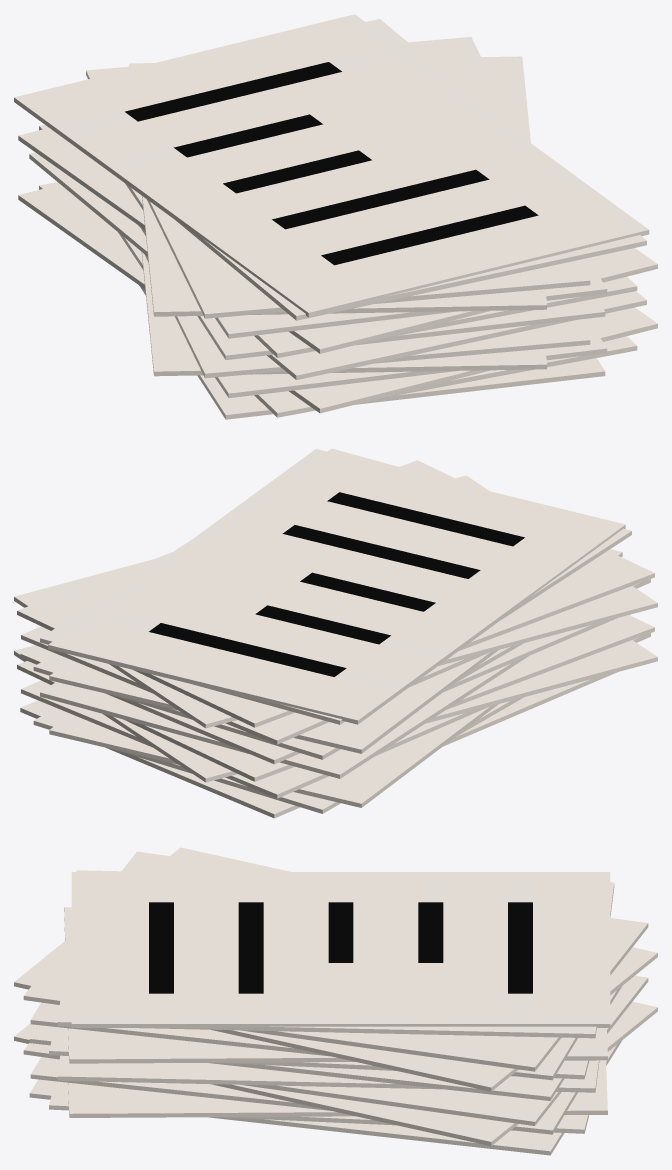
Rendered from PapersLong.fbx.
The picture shows the model from 3 angles, top to bottom: view 1: azimuth 30°, elevation 25°; view 2: azimuth 150°, elevation 25°; view 3: azimuth 270°, elevation 25°; orthographic projection. The views are drawn at different scales.
Parts seen in each view (by area): view 1: PapersLong; view 2: PapersLong; view 3: PapersLong.
Part boxes in pixels (x1,y1,x2,y2): PapersLong: (14,14,657,419); PapersLong: (14,448,657,818); PapersLong: (14,847,657,1155).
Size of the model in its own units: 90.95 by 18.27 by 103.
